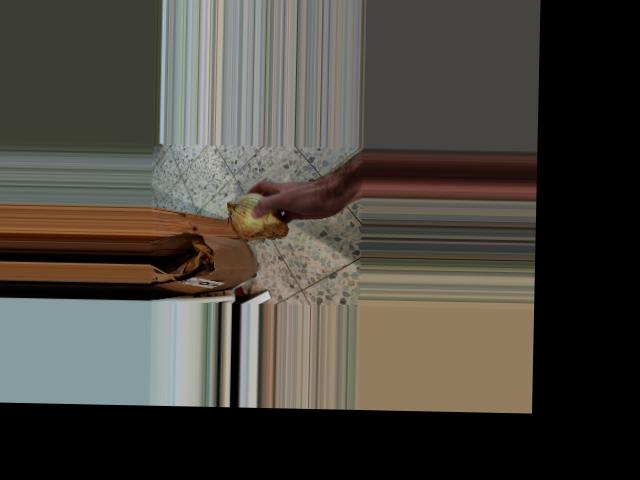onion: (223, 190, 291, 244)
